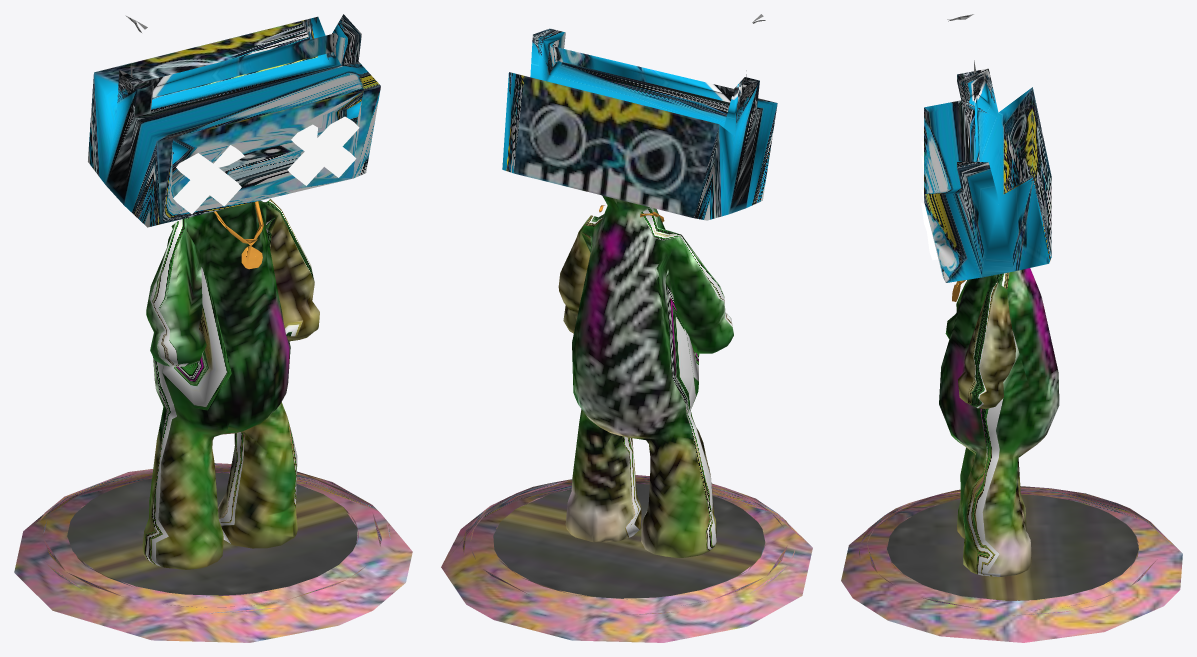
3 views of the same model, side by side, from view 1: azimuth 30°, elevation 25°; view 2: azimuth 150°, elevation 25°; view 3: azimuth 270°, elevation 25° (orthographic). The views are drawn at different scales.
Size of the model in its own units: 1.44 by 2.34 by 1.42.
Materials: 7 (5 with a texture image).
